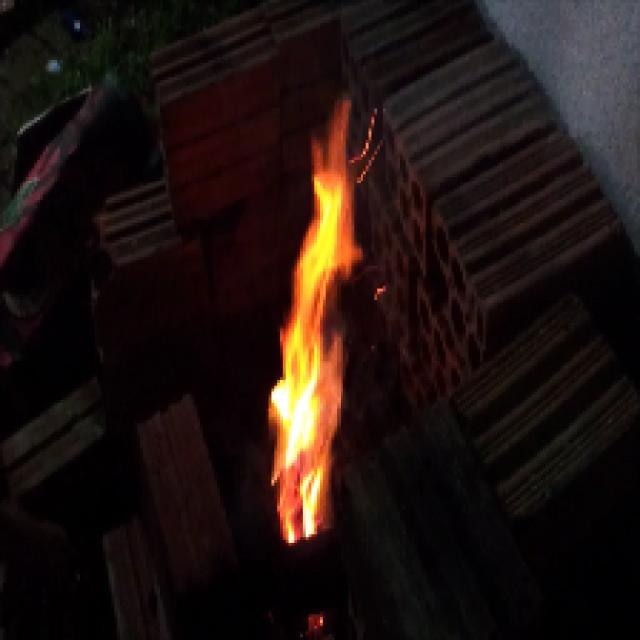fire: (272, 146, 352, 552)
